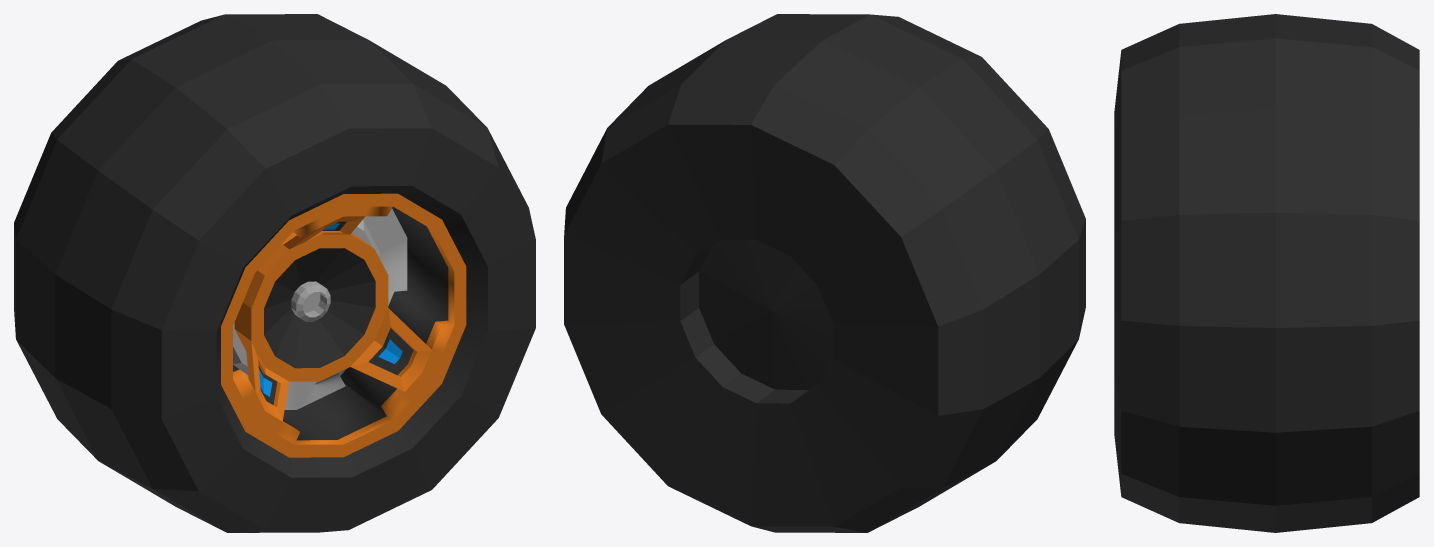
File: wheel33.fbx
3 views of the same model, side by side, from view 1: azimuth 30°, elevation 25°; view 2: azimuth 150°, elevation 25°; view 3: azimuth 270°, elevation 25° (orthographic).
Parts seen in each view (by area): view 1: lanot_wheel32_L; view 2: lanot_wheel32_L; view 3: lanot_wheel32_L.
Part boxes in pixels (box(x1,y1,x2,y2)): lanot_wheel32_L: box(14, 14, 535, 532); lanot_wheel32_L: box(564, 14, 1085, 532); lanot_wheel32_L: box(1114, 14, 1419, 532).
Size of the model in its own units: 152 by 156 by 91.65.
